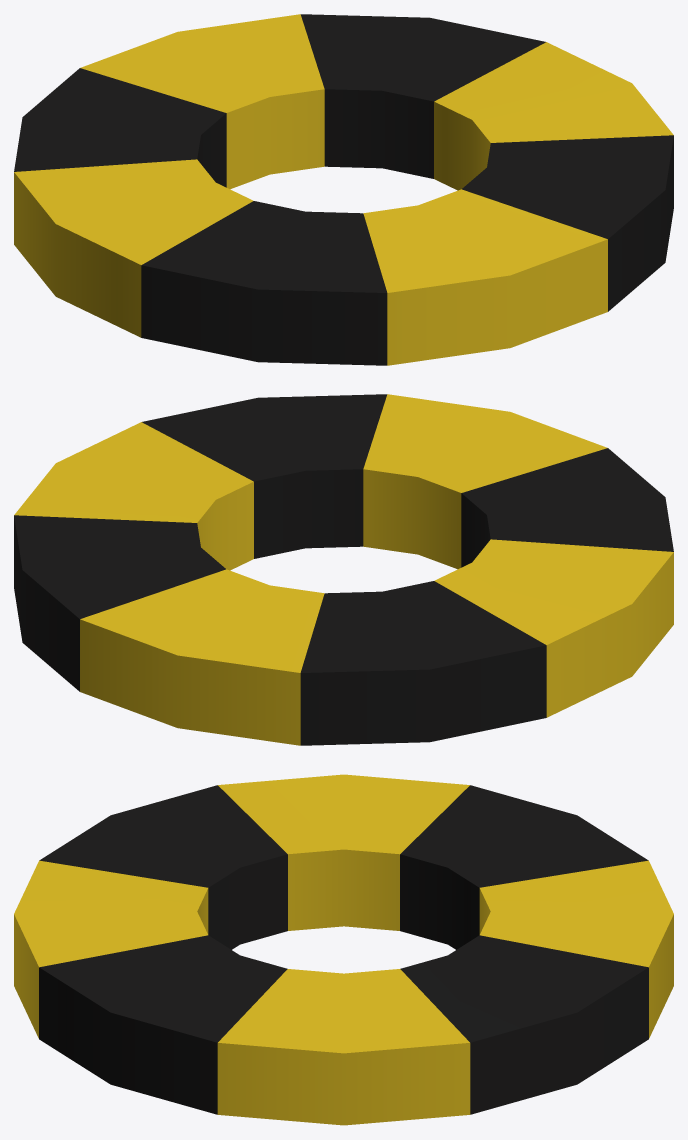
File: Platform_New.fbx
3 views of the same model, one above another, from view 1: azimuth 30°, elevation 25°; view 2: azimuth 150°, elevation 25°; view 3: azimuth 270°, elevation 25° (orthographic).
Parts seen in each view (by area): view 1: Black_platform 4, Yellow_platform 1, Yellow_platform 4, Black_platform 1, Yellow_platform 3, Black_platform 2, Yellow_platform 2, Black_platform 3; view 2: Black_platform 3, Yellow_platform 3, Yellow_platform 4, Black_platform 2, Yellow_platform 1, Black_platform 1, Yellow_platform 2, Black_platform 4; view 3: Yellow_platform 2, Black_platform 2, Black_platform 1, Yellow_platform 4, Black_platform 4, Black_platform 3, Yellow_platform 1, Yellow_platform 3.
Boxes of the visible parts, <box> form: Black_platform 4: <box>141,201,387,365</box>; Yellow_platform 1: <box>363,189,607,365</box>; Yellow_platform 4: <box>14,159,253,337</box>; Black_platform 1: <box>300,14,545,178</box>; Yellow_platform 3: <box>80,14,324,189</box>; Black_platform 2: <box>462,135,673,311</box>; Yellow_platform 2: <box>434,42,673,190</box>; Black_platform 3: <box>14,68,226,187</box>; Black_platform 3: <box>300,581,546,745</box>; Yellow_platform 3: <box>80,569,324,745</box>; Yellow_platform 4: <box>434,539,673,717</box>; Black_platform 2: <box>142,394,387,558</box>; Yellow_platform 1: <box>363,394,607,569</box>; Black_platform 1: <box>14,515,225,691</box>; Yellow_platform 2: <box>14,422,253,570</box>; Black_platform 4: <box>461,448,673,567</box>; Yellow_platform 2: <box>217,969,470,1125</box>; Black_platform 2: <box>39,935,287,1114</box>; Black_platform 1: <box>400,935,648,1114</box>; Yellow_platform 4: <box>218,774,469,930</box>; Black_platform 4: <box>39,785,287,949</box>; Black_platform 3: <box>400,785,648,949</box>; Yellow_platform 1: <box>14,860,208,1038</box>; Yellow_platform 3: <box>479,860,673,1038</box>.
Bounding box in the file's own units: 1287 × 1287 × 165.
